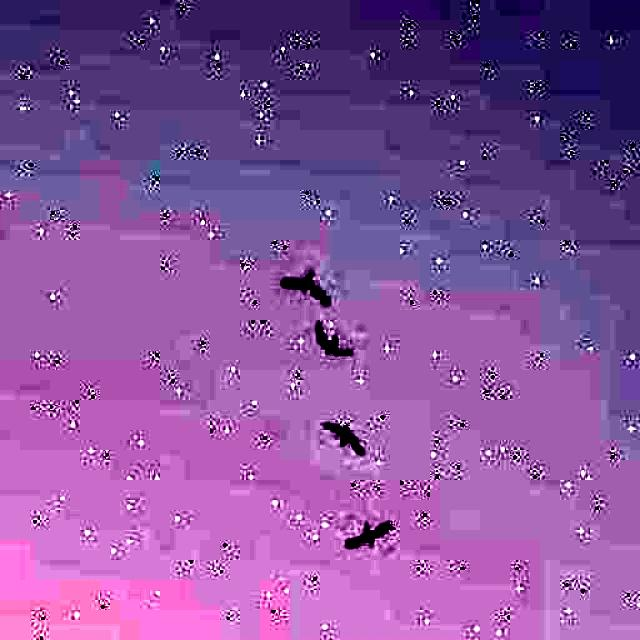airplane: (278, 264, 334, 308), (311, 319, 355, 359), (321, 421, 368, 455), (345, 518, 391, 551)
